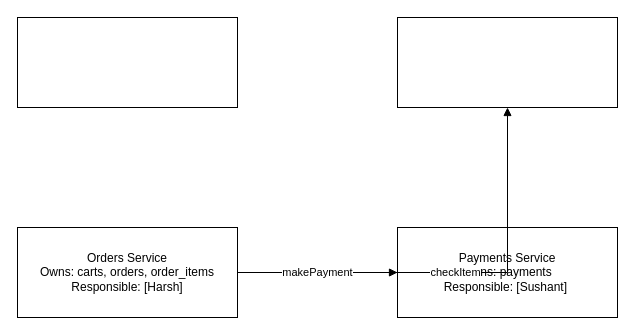
The diagram is 635 pixels wide and 335 high, and some of its shapes have lost their labels. The shapes that lost their labels are listed below. From the top down, each one's box as (x1, y1, x2, y2) in pixels, then its label:
(16, 16, 238, 108): Accounts Service Owns: users, addresses Responsible: [Harsh]
(396, 16, 618, 108): Catalogue Service Owns: restaurants, menu_items Responsible: [Sushant]
